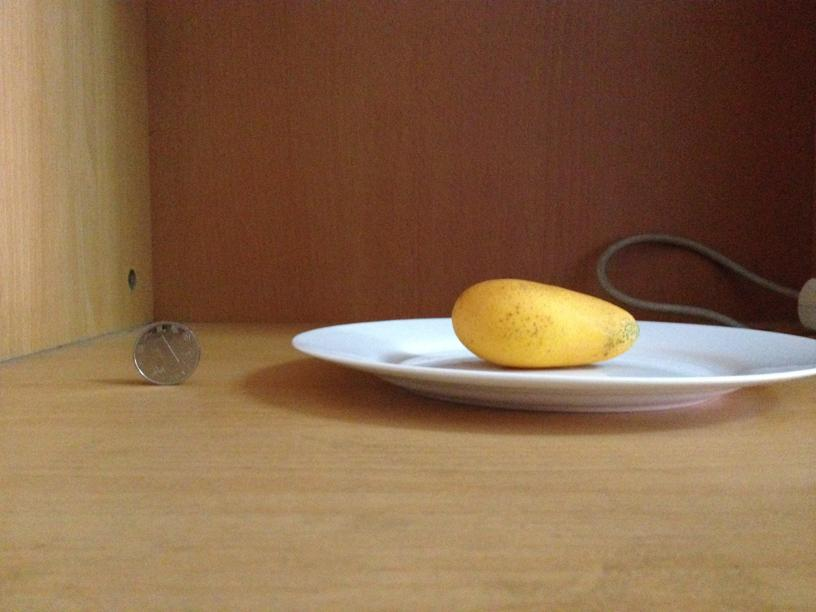coin: (132, 322, 200, 386)
mango: (452, 278, 639, 365)
